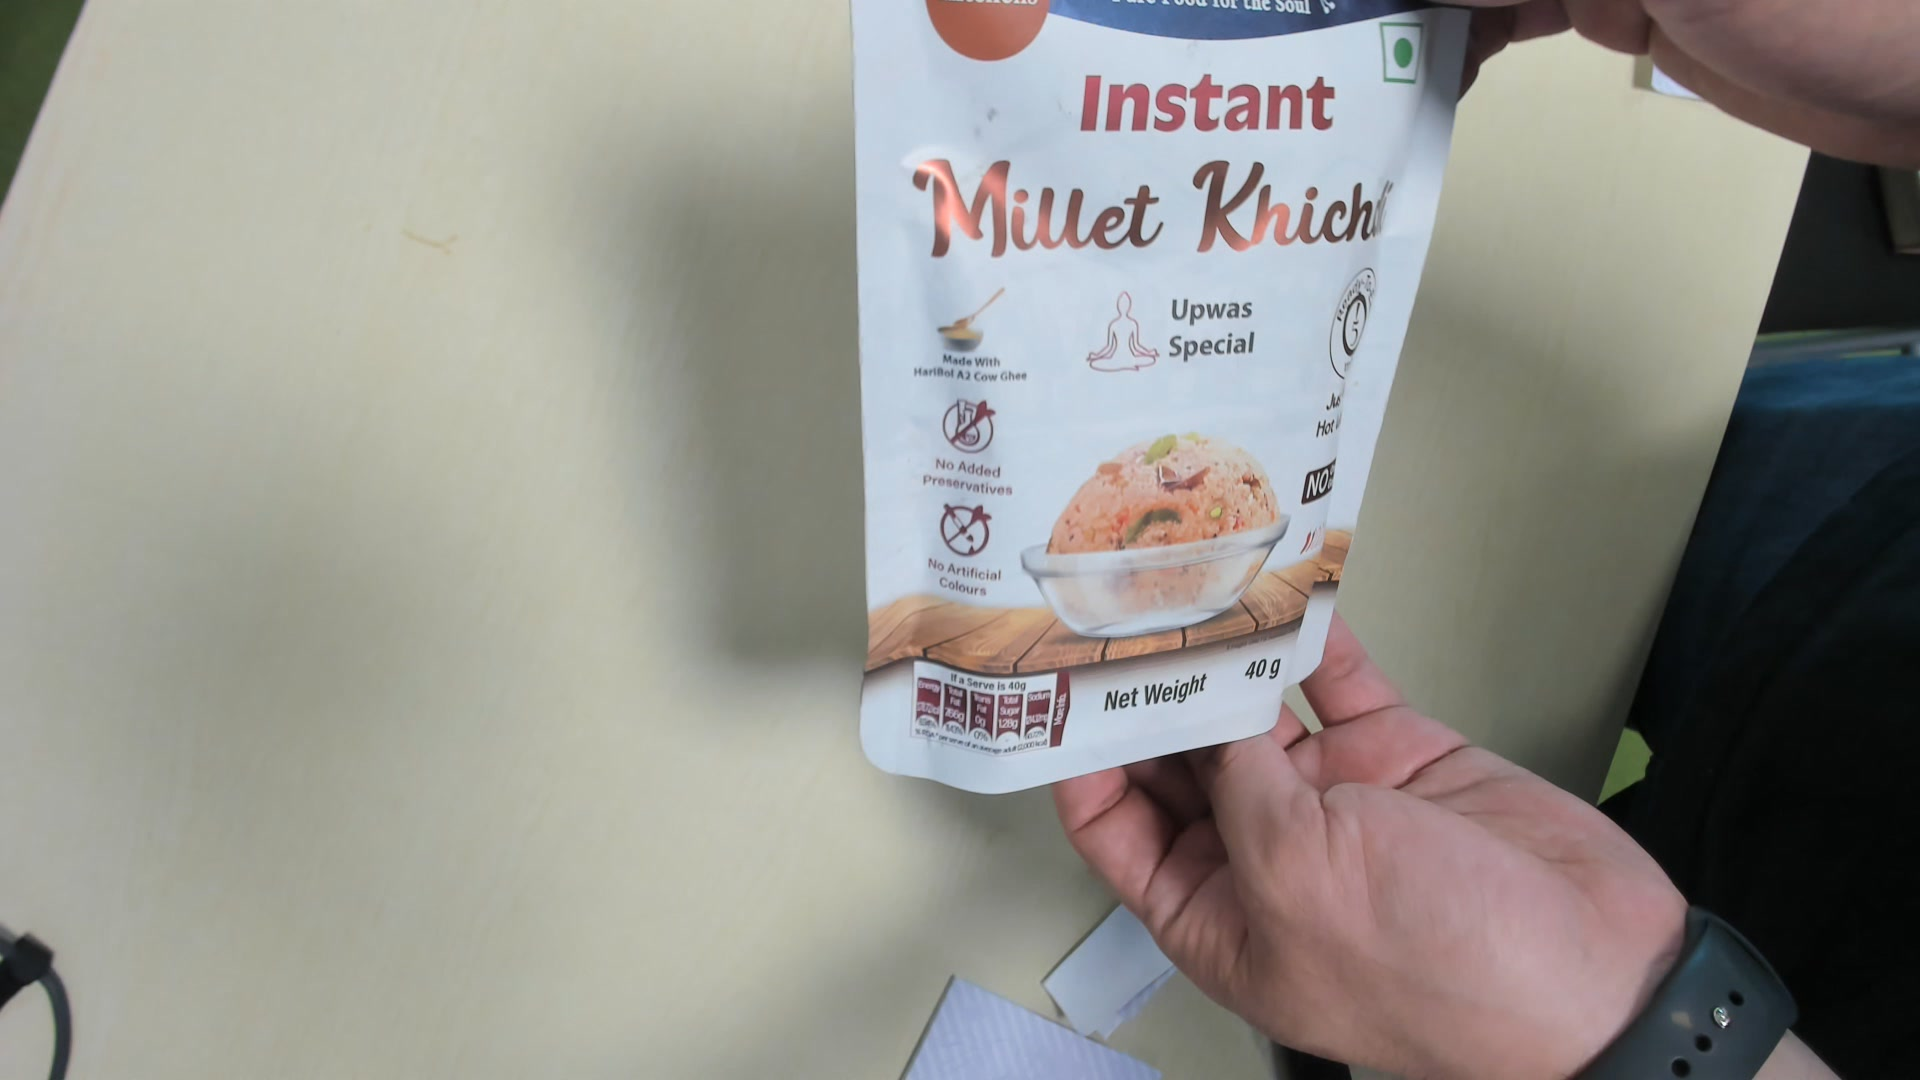InstantMeals_0-99g_NonHalal_NonHealthy: (848, 1, 1476, 790)
